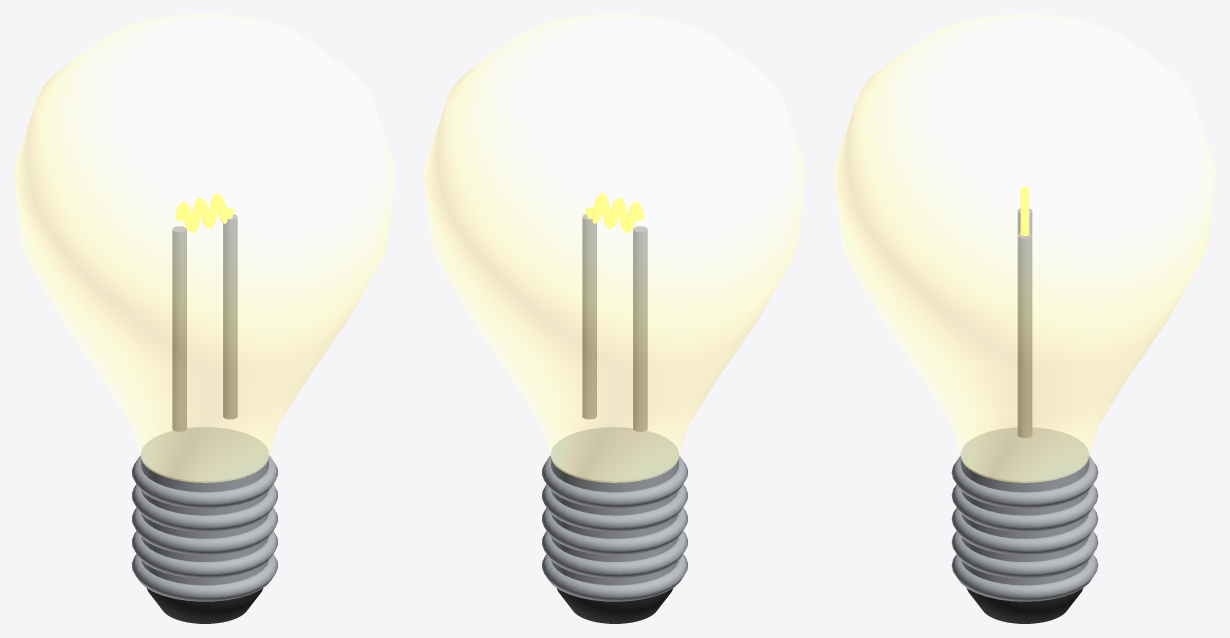
Rendered from bulb.glb.
3 views of the same model, side by side, from view 1: azimuth 30°, elevation 25°; view 2: azimuth 150°, elevation 25°; view 3: azimuth 270°, elevation 25° (orthographic).
Visible parts, largest first — view 1: bulb; view 2: bulb; view 3: bulb.
Boxes of the visible parts, <box> form: bulb: <box>14,14,395,623</box>; bulb: <box>424,14,805,623</box>; bulb: <box>834,14,1215,623</box>.
Size of the model in its own units: 0.104 by 0.17 by 0.104.
